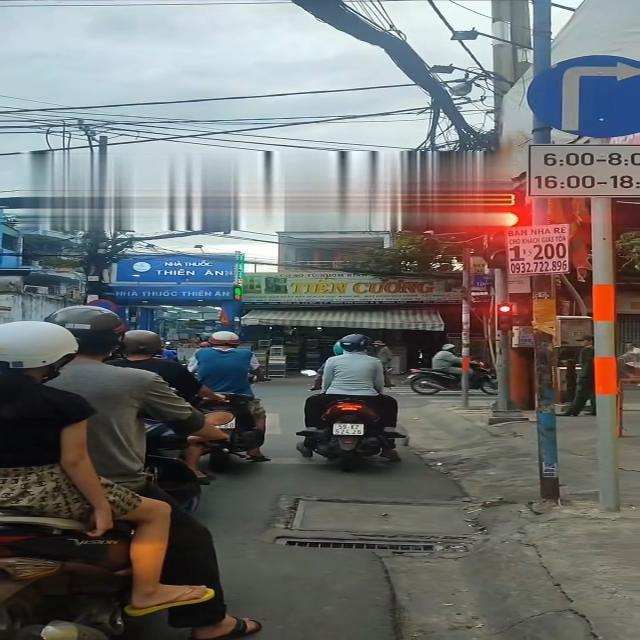301d-cac-xe-chi-duoc-re-phai-2: (524, 54, 640, 138)
